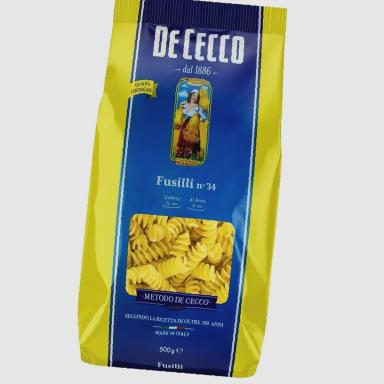pasta package: (79, 0, 285, 376)
